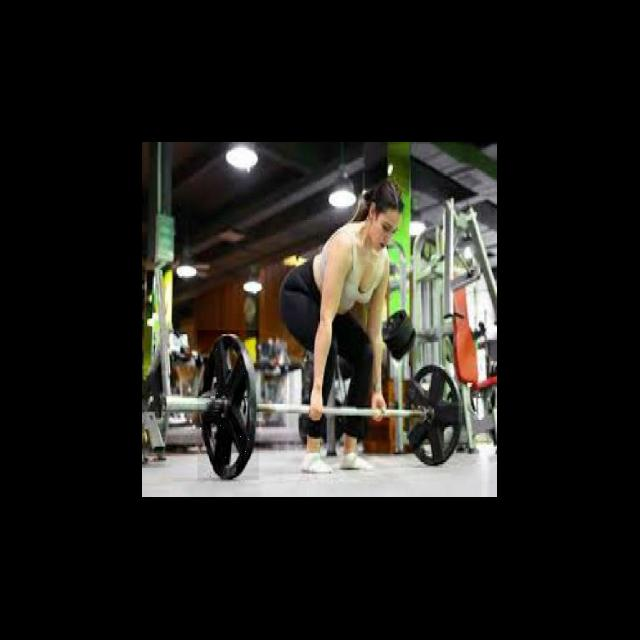barbell: (198, 330, 259, 480)
